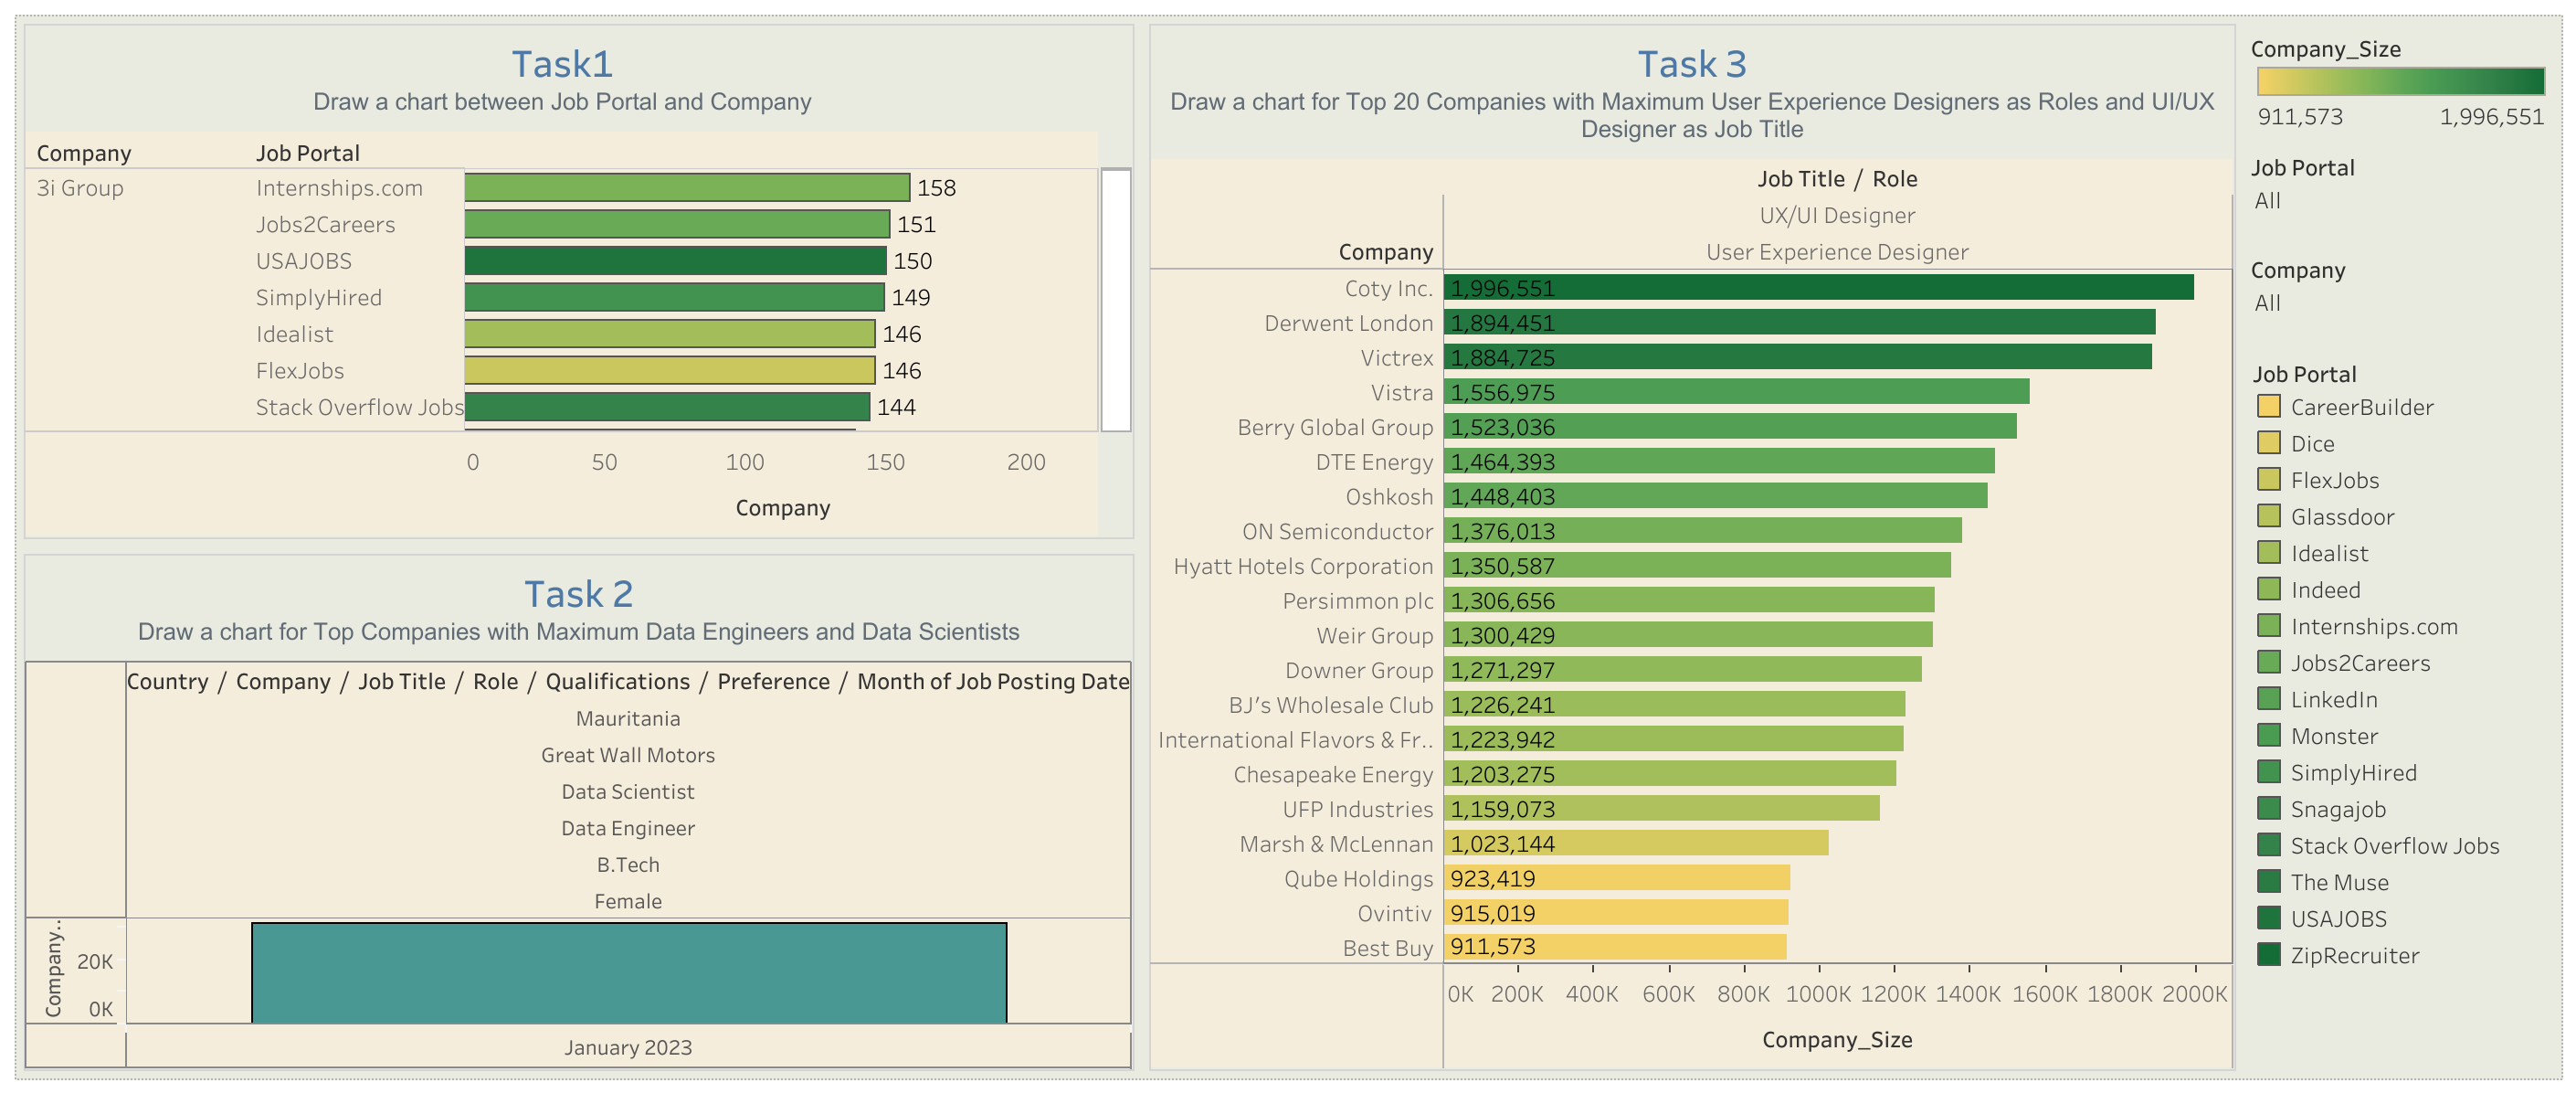

What the dashboard file says about the page in this screenshot:
{"tool":"tableau","page":{"name":"Dashboard 1","canvas":[1000,1000],"units":"permille","ordinal":0},"visuals":[{"type":"worksheet","title":"Task 1","mark":"Automatic","rows":["Company","Job_Portal"],"cols":["Company"],"box":[8.5,16.6,481.6,482.6]},{"type":"worksheet","title":"Task 3","mark":"Automatic","rows":["Company"],"cols":["Job_Title","Role","Company_Size"],"box":[490.1,16.6,471,966.9]},{"type":"legend","title":"Task 3","param":"[federated.0b8xhah1kabd941ceqdxm1in8t5p].[sum:Company_Size:qk]","box":[961.1,16.6,30.4,119.7]},{"type":"filter","title":"Task 1","param":"[federated.0b8xhah1kabd941ceqdxm1in8t5p].[none:Job_Portal:nk]","box":[961.1,136.3,30.4,95.8]},{"type":"filter","title":"Task 1","param":"[federated.0b8xhah1kabd941ceqdxm1in8t5p].[none:Company:nk]","box":[961.1,232,30.4,95.8]},{"type":"legend","title":"Task 1","param":"[federated.0b8xhah1kabd941ceqdxm1in8t5p].[none:Job_Portal:nk]","box":[961.1,327.8,30.4,637.2]},{"type":"worksheet","title":"Task 2","mark":"Bar","rows":["Company_Size"],"cols":["Country","Company","Job_Title","Role","Qualifications","Preference","Job_Posting_Date"],"box":[8.5,499.2,481.6,484.2]}]}

Visuals, with their boxes on the dashboard's canvas, which has no fixed pixel size, in thousandths of its width and height (x1, y1, x2, y2). These are canvas units, not pixel positions in the 2576x1093 screenshot, which may show the page scaled, cropped or inside an application window:
"Task 1" worksheet: locate(8, 17, 490, 499)
"Task 3" worksheet: locate(490, 17, 961, 984)
"Task 3" legend: locate(961, 17, 992, 136)
"Task 1" filter: locate(961, 136, 992, 232)
"Task 1" filter: locate(961, 232, 992, 328)
"Task 1" legend: locate(961, 328, 992, 965)
"Task 2" worksheet (Bar marks): locate(8, 499, 490, 983)
